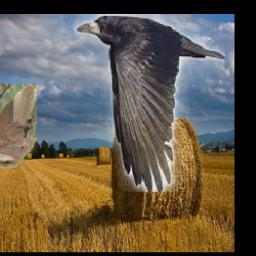Crow: (74, 14, 225, 192)
Cuckoo: (0, 85, 38, 169)
